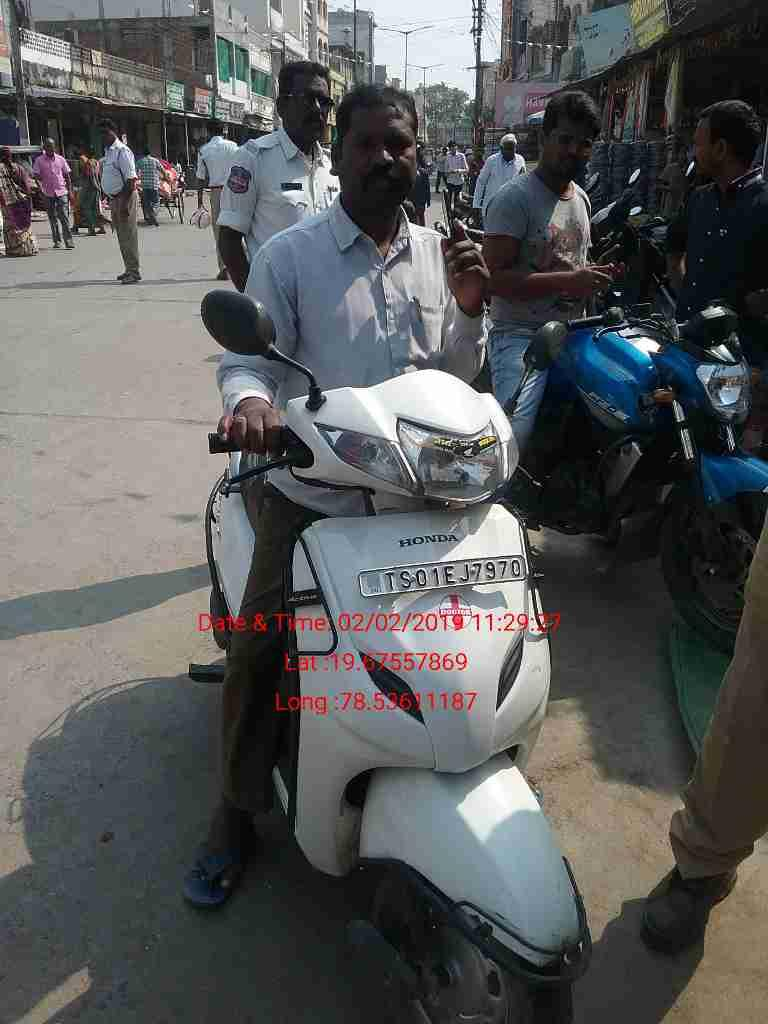plate: (338, 550, 536, 602)
